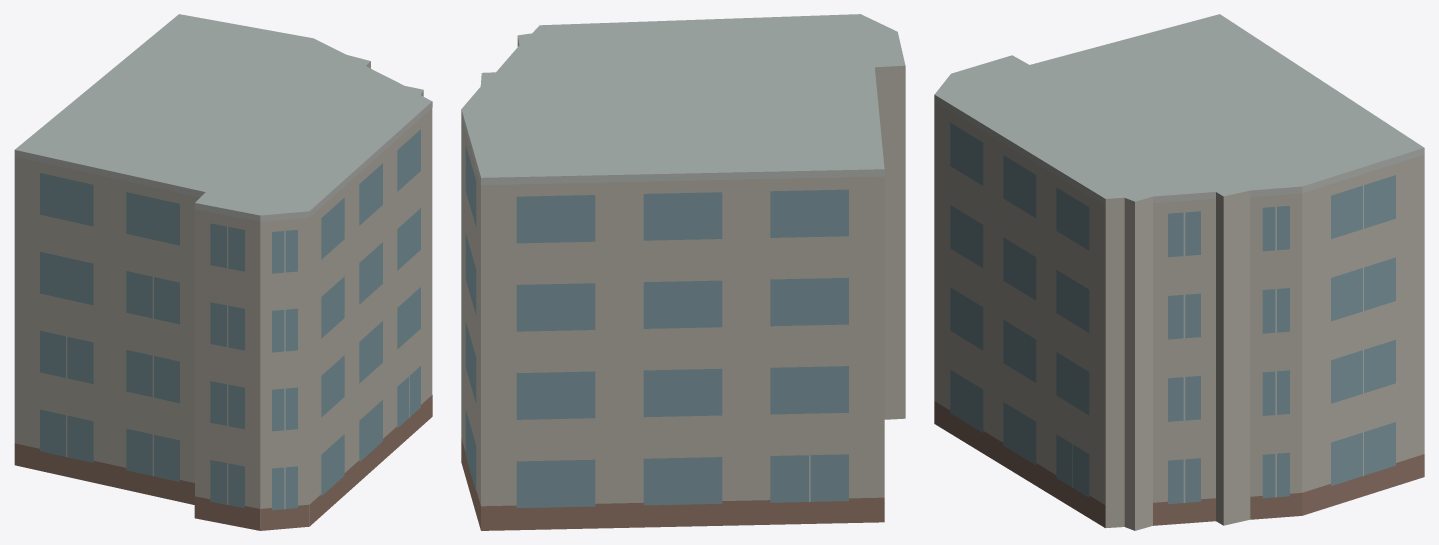
The model's file is survey-upis-33042952.glb.
3 views of the same model, side by side, from view 1: azimuth 30°, elevation 25°; view 2: azimuth 150°, elevation 25°; view 3: azimuth 270°, elevation 25° (orthographic). The views are drawn at different scales.
Parts seen in each view (by area): view 1: survey-upis-33042952.tmp; view 2: survey-upis-33042952.tmp; view 3: survey-upis-33042952.tmp.
Part boxes in pixels (box(x1,y1,x2,y2)): survey-upis-33042952.tmp: box(14, 14, 432, 530); survey-upis-33042952.tmp: box(461, 14, 905, 530); survey-upis-33042952.tmp: box(934, 14, 1424, 530).
Size of the model in its own units: 14.55 by 11.9 by 16.06.
